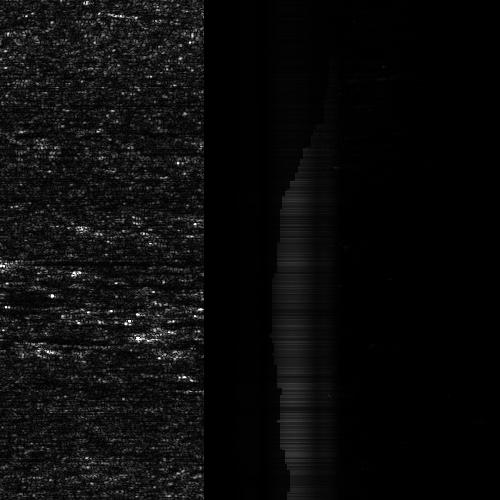rock: (36, 265, 129, 274), (0, 254, 65, 263)
shadow: (83, 265, 173, 274), (24, 254, 113, 263)
